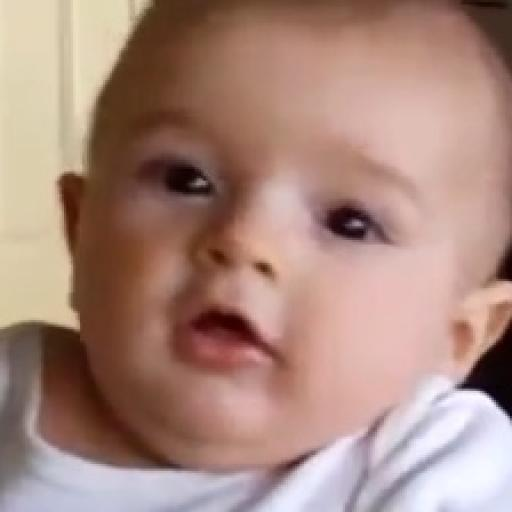Autism: (83, 12, 512, 450)
